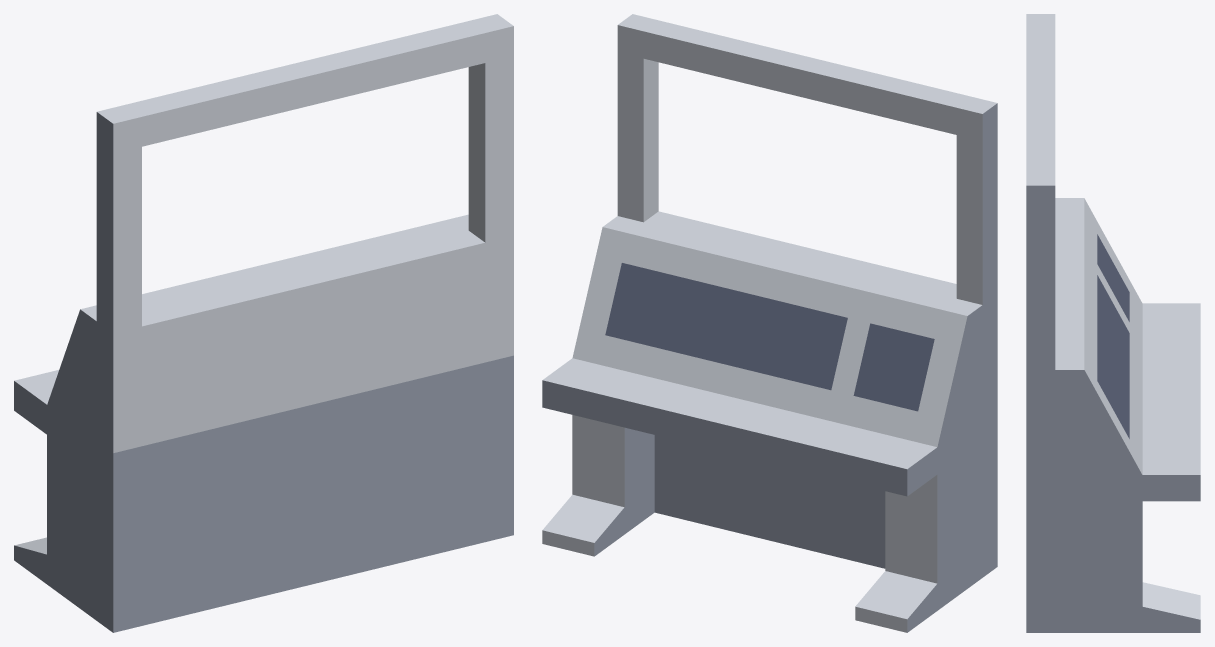
The model's file is desk_computerScreen.glb.
The picture shows the model from 3 angles, left to right: view 1: azimuth 30°, elevation 25°; view 2: azimuth 150°, elevation 25°; view 3: azimuth 270°, elevation 25°; orthographic projection. The views are drawn at different scales.
Parts seen in each view (by area): view 1: desk_computerScreen; view 2: desk_computerScreen; view 3: desk_computerScreen.
Part boxes in pixels (<box>): desk_computerScreen: <box>14,14,513,632</box>; desk_computerScreen: <box>542,14,997,632</box>; desk_computerScreen: <box>1026,14,1200,632</box>.
Bounding box in the file's own units: 0.525 × 0.6375 × 0.225.
